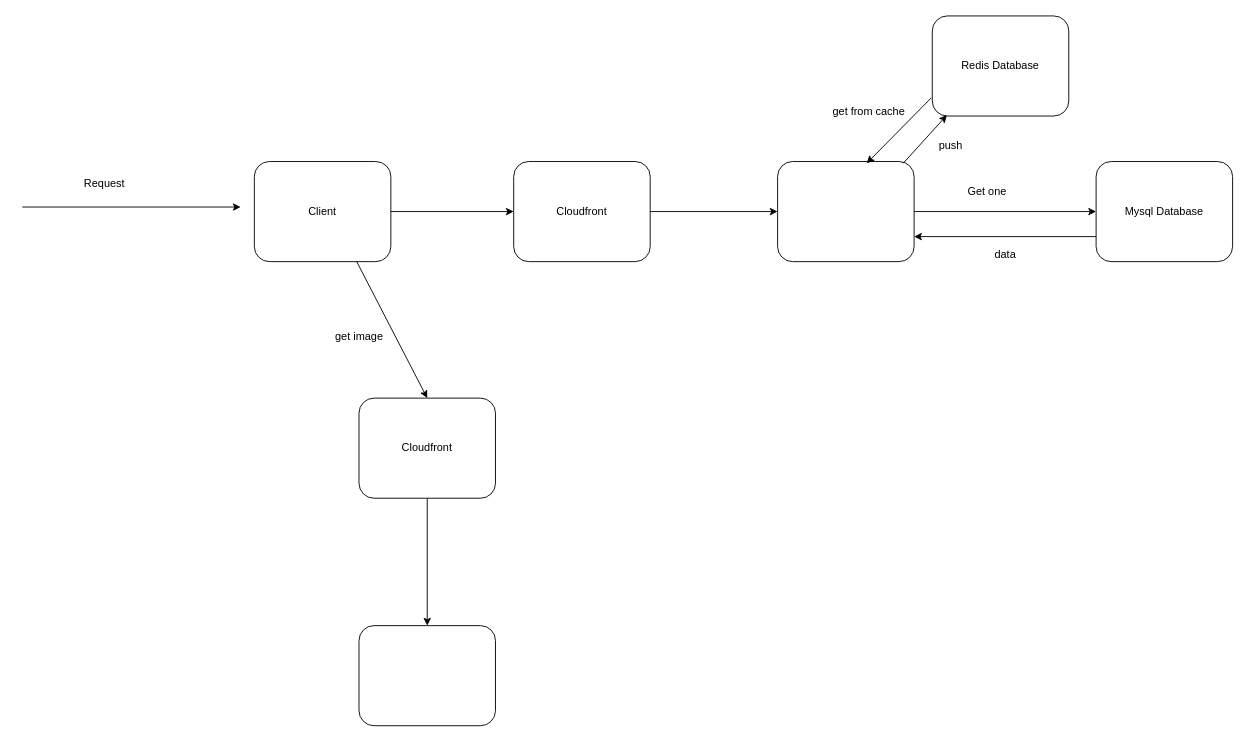
Some shapes in this 1249 by 742 pixel diagram are drawn without their labels. Each missing label, with the centre of its shape:
Instance: pixel 845 211
S3: pixel 426 675
